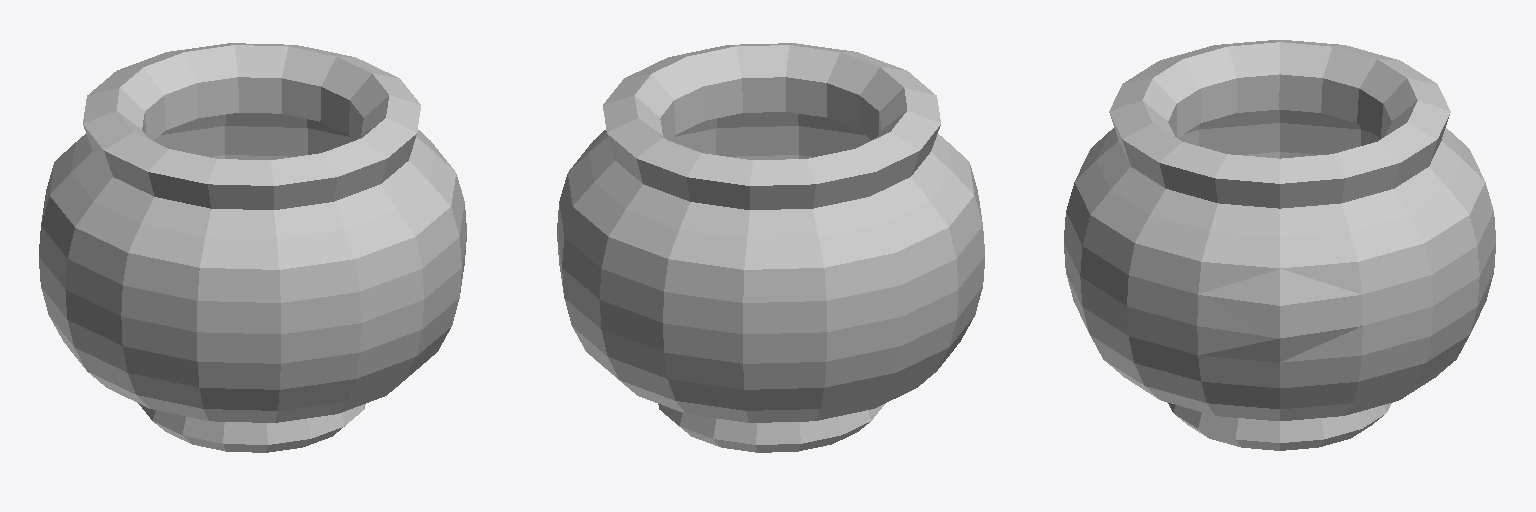
Rendered from NewBowlUVd.obj.
3 renders of one model, left to right at view 1: azimuth 30°, elevation 25°; view 2: azimuth 150°, elevation 25°; view 3: azimuth 270°, elevation 25°, orthographic.
Visible parts, largest first — view 1: revolvedSurface1 group1; view 2: revolvedSurface1 group1; view 3: revolvedSurface1 group1.
Part boxes in pixels (x1,y1,x2,y2): revolvedSurface1 group1: (39,43,466,452); revolvedSurface1 group1: (557,43,984,452); revolvedSurface1 group1: (1064,40,1495,450).
Bounding box in the file's own units: 7.11 × 5.49 × 7.